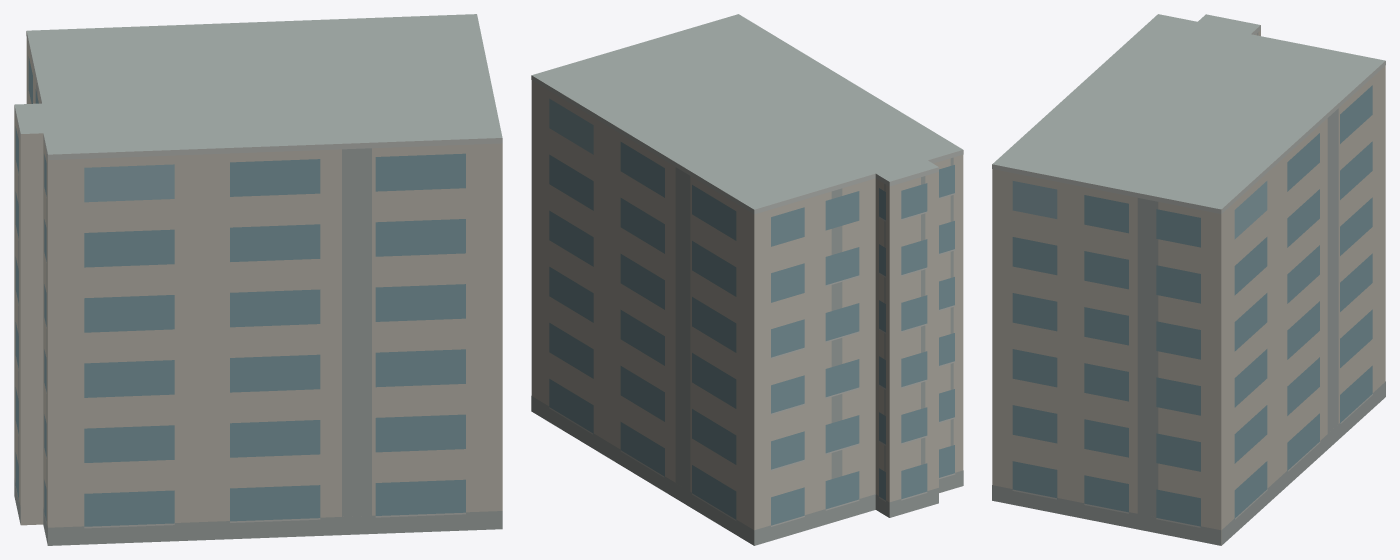
The model's file is survey-upis-33018060.glb.
3 views of the same model, side by side, from view 1: azimuth 30°, elevation 25°; view 2: azimuth 150°, elevation 25°; view 3: azimuth 270°, elevation 25° (orthographic). The views are drawn at different scales.
Parts seen in each view (by area): view 1: survey-upis-33018060.tmp; view 2: survey-upis-33018060.tmp; view 3: survey-upis-33018060.tmp.
Boxes of the visible parts, <box> form: survey-upis-33018060.tmp: <box>14,14,502,545</box>; survey-upis-33018060.tmp: <box>531,14,963,545</box>; survey-upis-33018060.tmp: <box>992,14,1385,545</box>.
Bounding box in the file's own units: 21.44 × 17.2 × 18.25.
